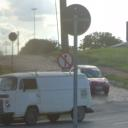NoSeguir: (57, 51, 74, 69)
